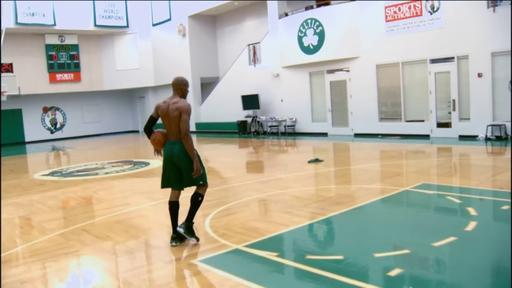ball: (150, 131, 165, 147)
human: (143, 76, 208, 247)
